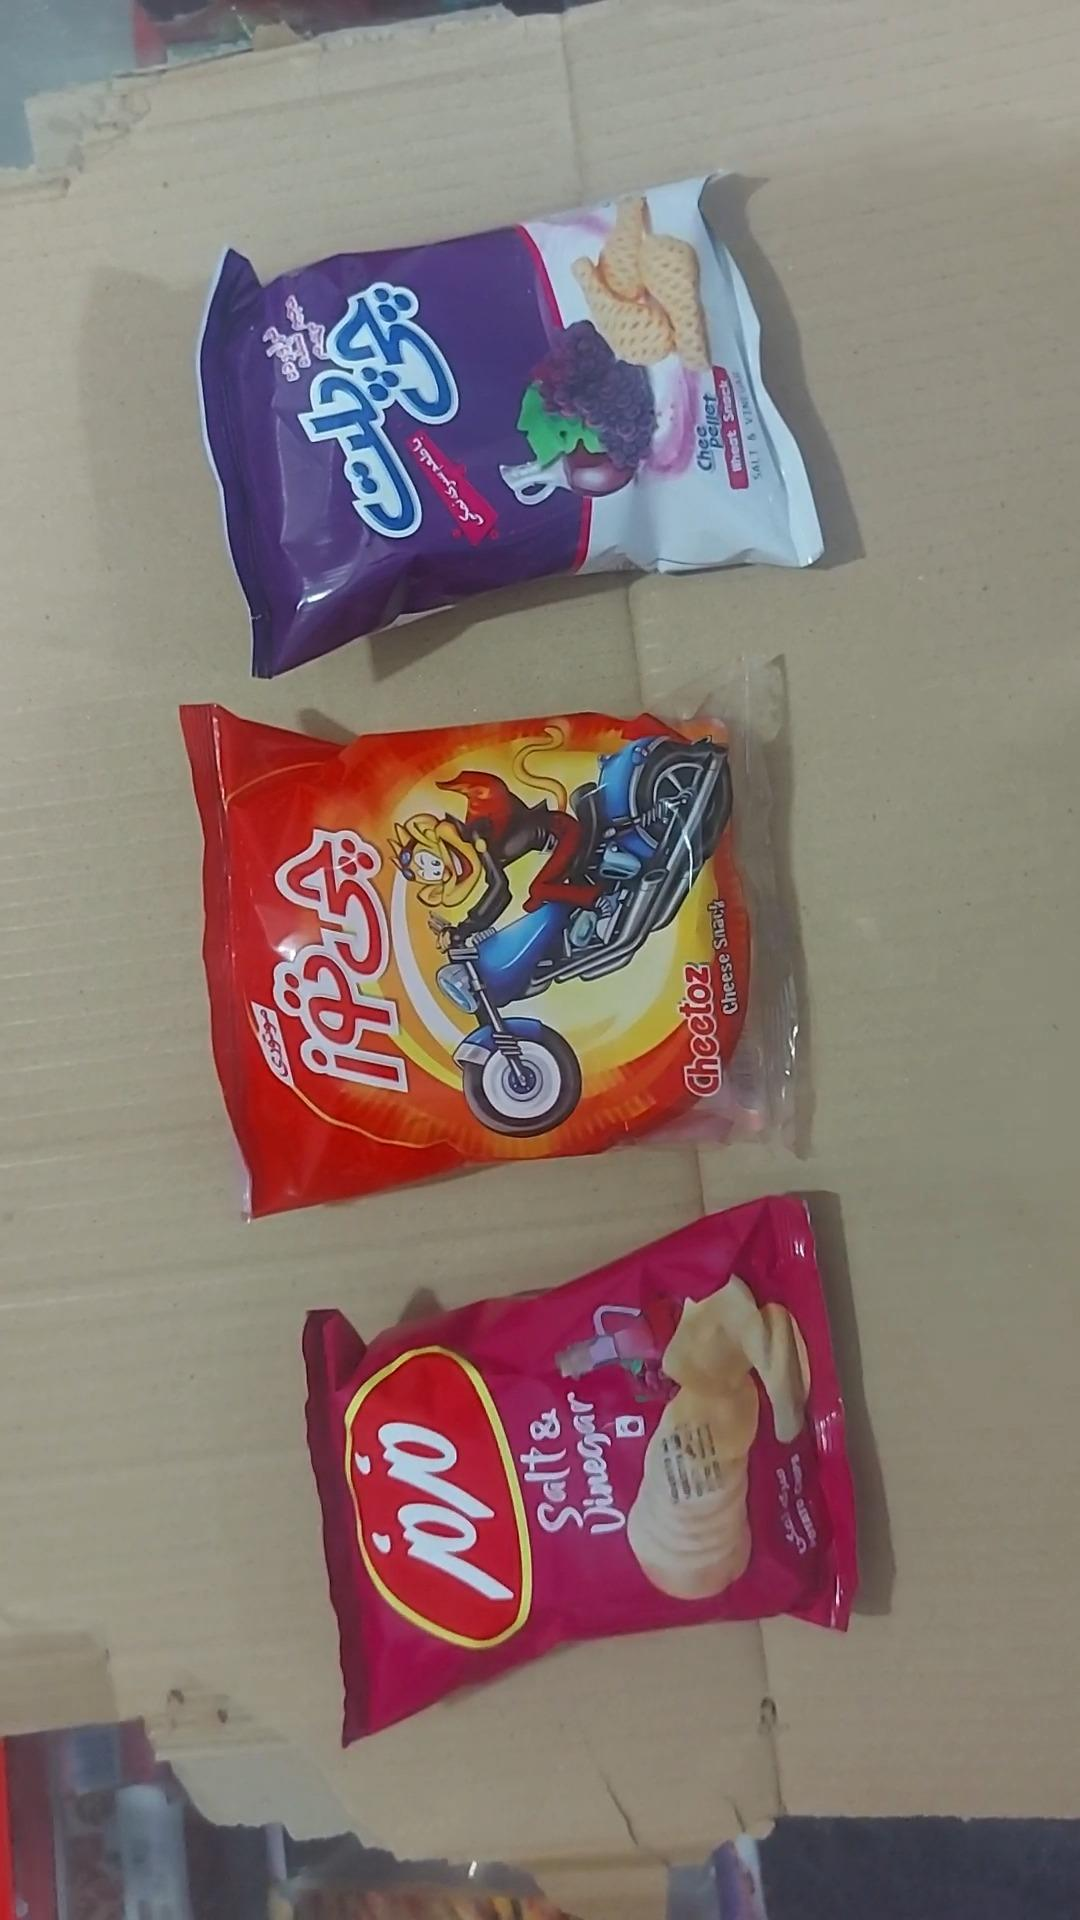Chee pellet vinegar: (195, 175, 825, 682)
Cheetoz snack 30g: (177, 657, 814, 1222)
Maz Maz vinegar chips: (301, 1196, 858, 1749)
